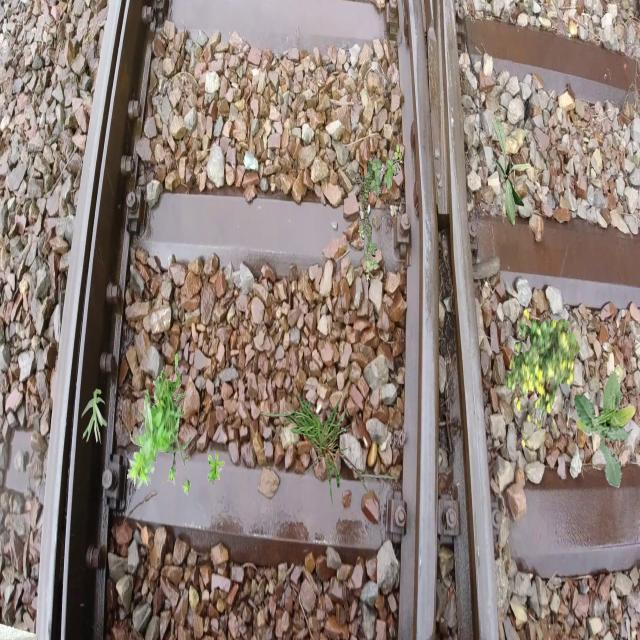Plant: (251, 390, 394, 510), (506, 308, 581, 448), (127, 353, 192, 496), (574, 364, 636, 488), (355, 144, 403, 282), (492, 117, 532, 227), (81, 388, 108, 444), (552, 337, 572, 370), (208, 452, 226, 484)
